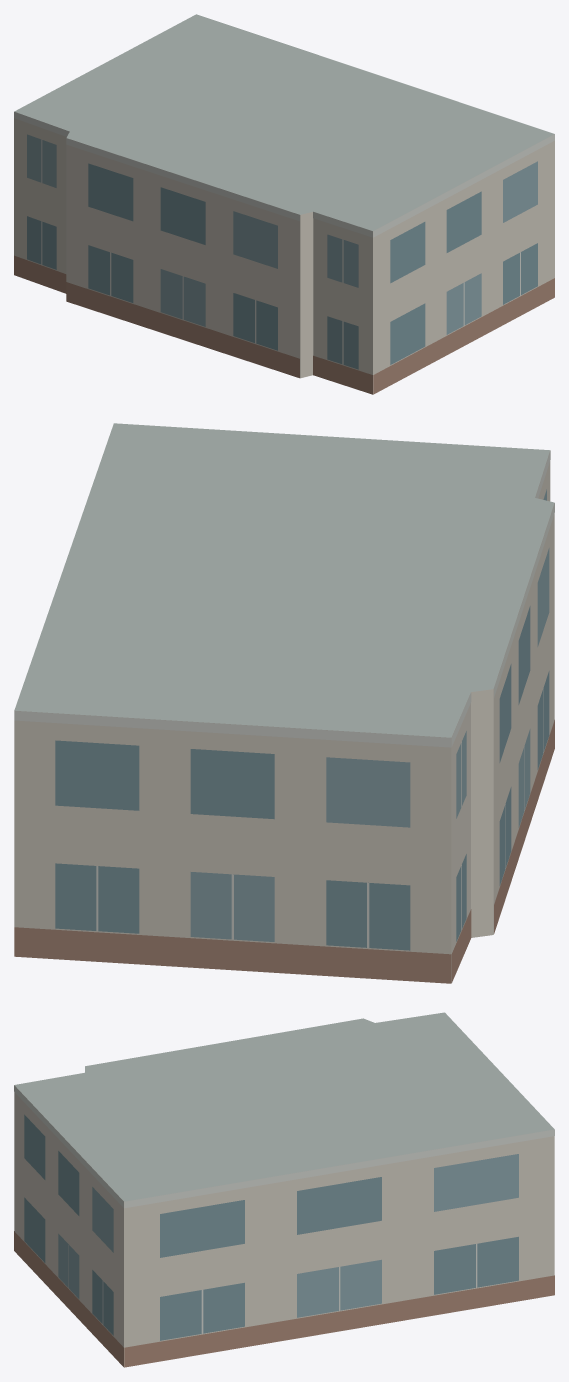
File: survey-upis-32908152.glb
The picture shows the model from 3 angles, top to bottom: view 1: azimuth 30°, elevation 25°; view 2: azimuth 150°, elevation 25°; view 3: azimuth 270°, elevation 25°; orthographic projection. The views are drawn at different scales.
Visible parts, largest first — view 1: survey-upis-32908152.tmp; view 2: survey-upis-32908152.tmp; view 3: survey-upis-32908152.tmp.
Boxes of the visible parts, x1=… form: survey-upis-32908152.tmp: x1=14, y1=14, x2=554, y2=394; survey-upis-32908152.tmp: x1=14, y1=423, x2=554, y2=983; survey-upis-32908152.tmp: x1=14, y1=1012, x2=554, y2=1367.
Size of the model in its own units: 14.95 by 6.1 by 18.04.
